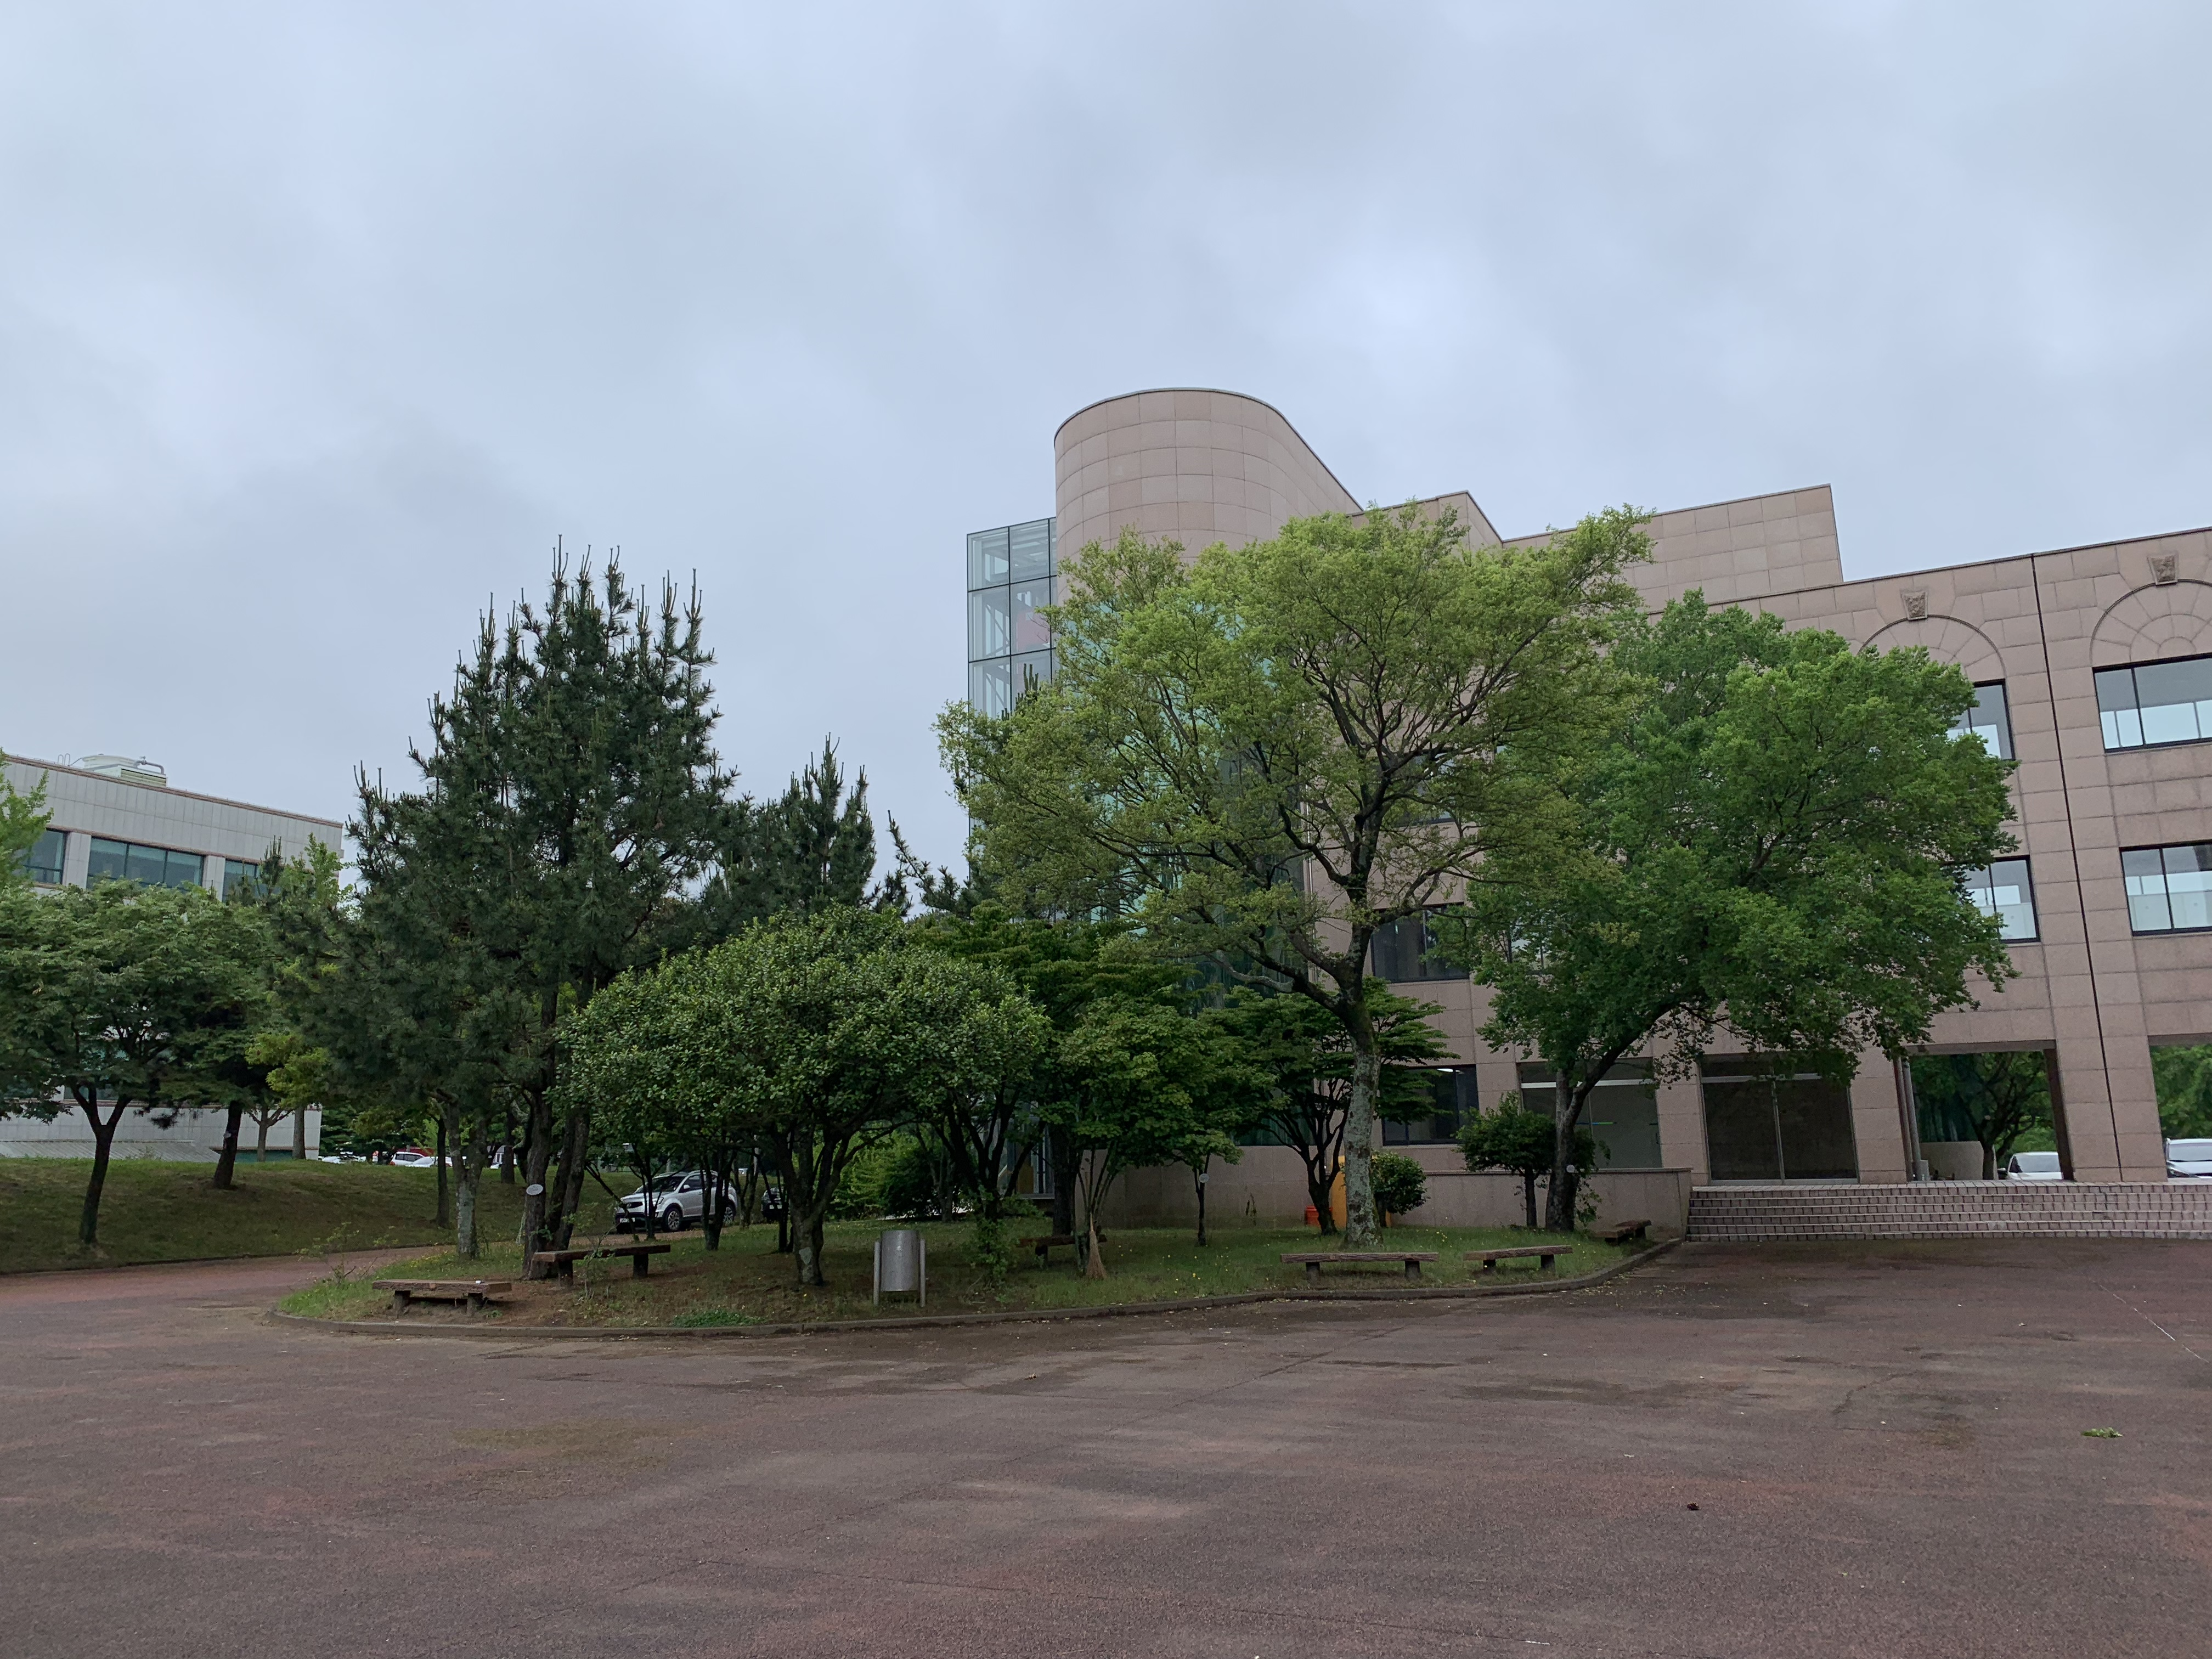Joint Experimental Labs: (906, 362, 1392, 809)
Second Library: (10, 732, 354, 931)
